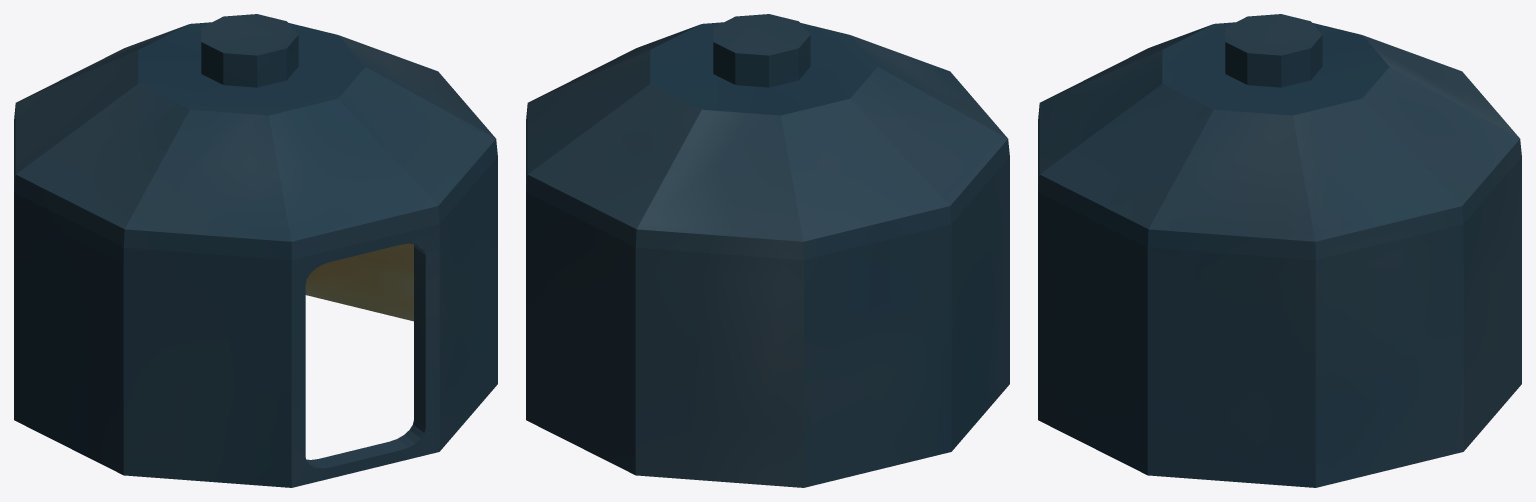
The model's file is bell.fbx.
3 views of the same model, side by side, from view 1: azimuth 30°, elevation 25°; view 2: azimuth 150°, elevation 25°; view 3: azimuth 270°, elevation 25° (orthographic).
Visible parts, largest first — view 1: bell; view 2: bell; view 3: bell.
Part boxes in pixels (x1,y1,x2,y2): bell: [14, 14, 497, 487]; bell: [526, 14, 1009, 487]; bell: [1038, 14, 1521, 487].
Size of the model in its own units: 343 by 269 by 337.
2 materials, 2 textured.
